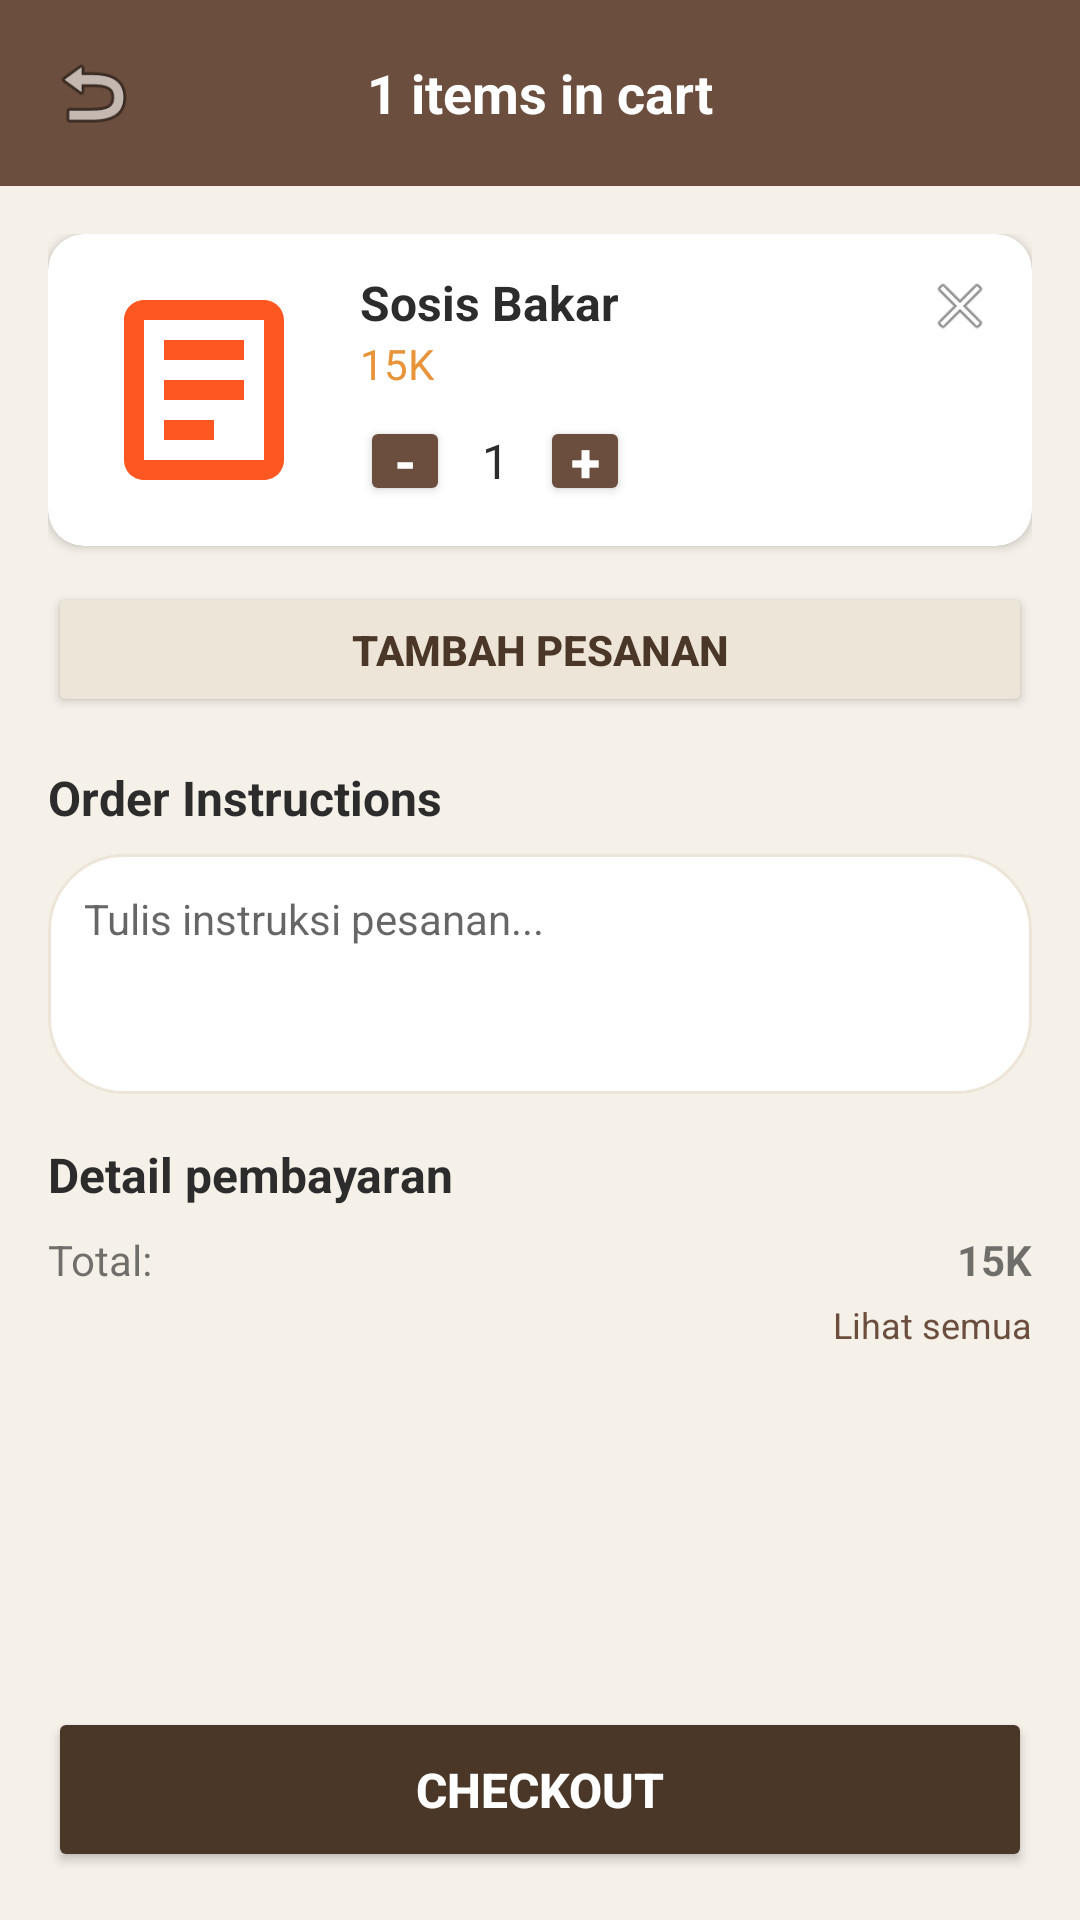

Locate icon controls on the screen. Image size 1080px×1920px, boxes as box=[x1, y1, x2, y2].
Back: box=[62, 65, 126, 123]
Remove: box=[937, 283, 983, 329]
